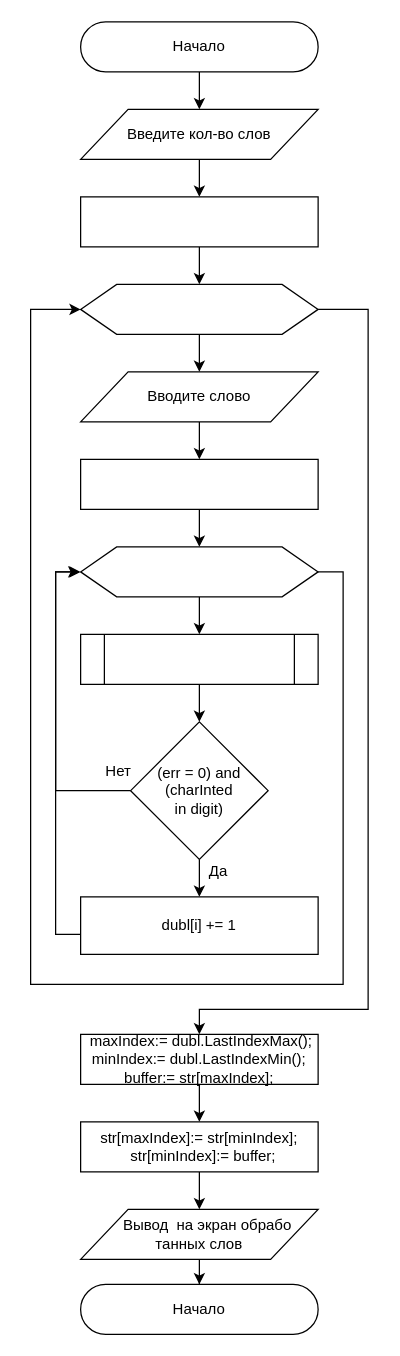
This 400x1356 diagram has some shape labels left out. Here are the shapes that lost their labels. From the top down, the centre of each, then its label:
(198,221): readln(N); setLength(str, N); setLength(dubl, N);
(198,308): i=0 .. N-1
(198,483): readln(str[i]);
(198,571): var k:= 1 .. str[i].Length
(198,658): val(str[i][k], charInted, err)
